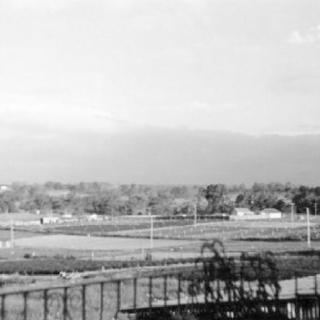Stratus: (0, 0, 320, 179)
